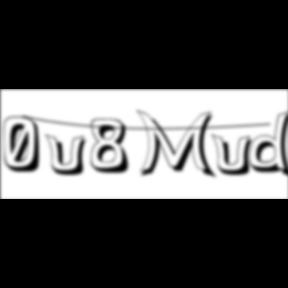0: (3, 115, 48, 174)
8: (92, 117, 136, 176)
M: (136, 108, 220, 181)
u: (45, 132, 93, 178), (211, 132, 259, 178)
